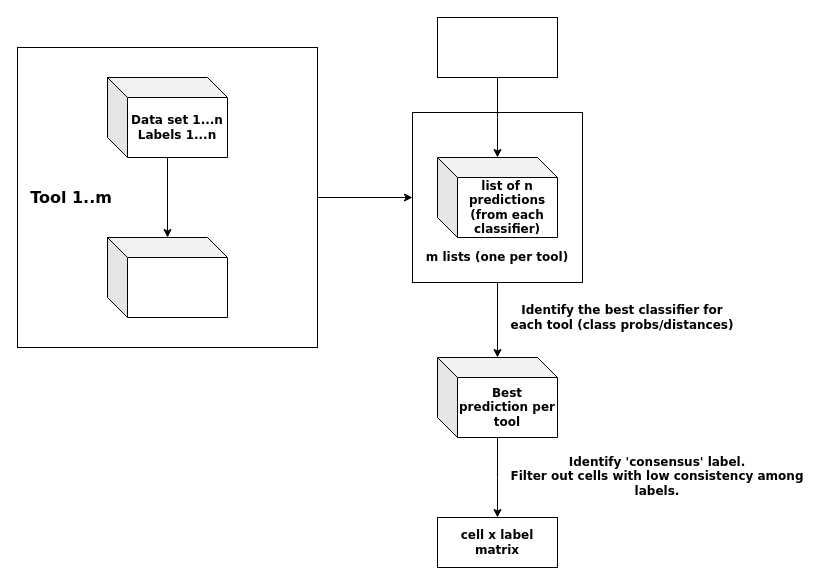
The diagram is 825 pixels wide and 585 high, and some of its shapes have lost their labels. The centre of each missing label's shape, as x and y in pixels:
Classifier/ Index 1...n: [167,277]
New data set (no labels): [497,47]
